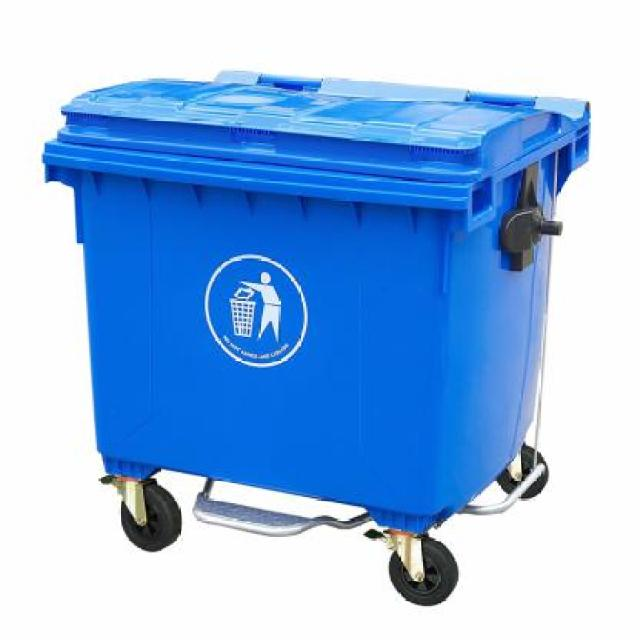garbage container: (29, 59, 614, 624)
